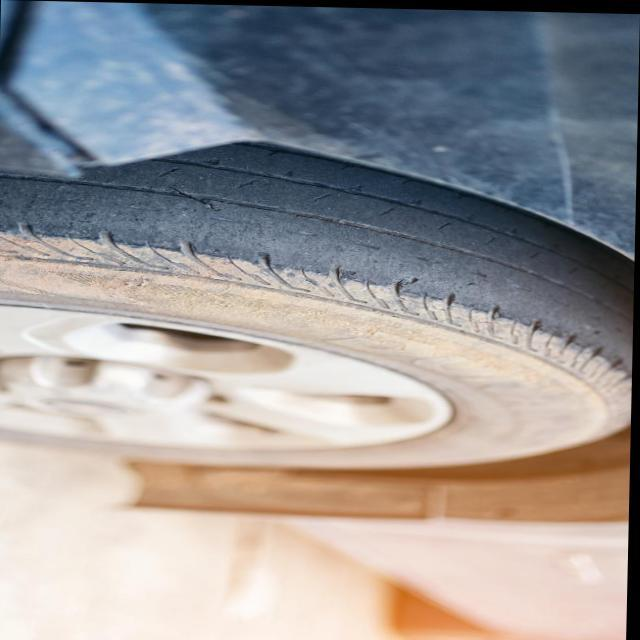Flat spots: (208, 149, 450, 251), (457, 199, 617, 309)
